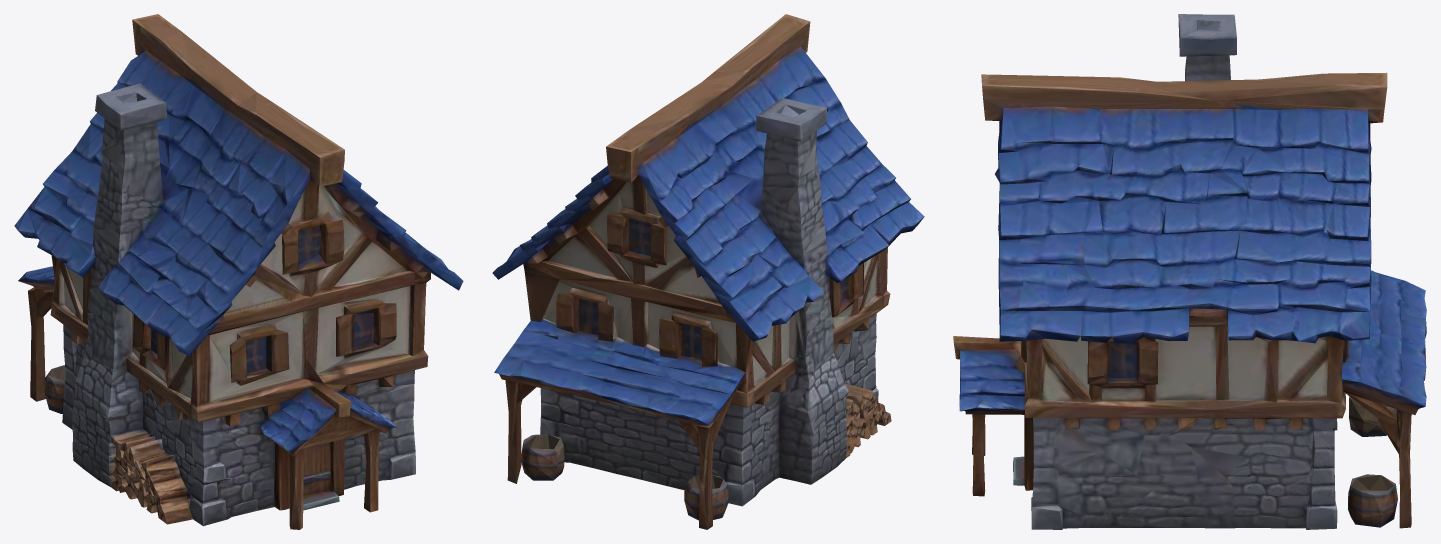
The model's file is oc_farmhouse.glb.
3 renders of one model, left to right at view 1: azimuth 30°, elevation 25°; view 2: azimuth 150°, elevation 25°; view 3: azimuth 270°, elevation 25°, orthographic. The views are drawn at different scales.
Visible parts, largest first — view 1: W_farmhouse; view 2: W_farmhouse; view 3: W_farmhouse.
Boxes of the visible parts, x1,y1,x2,y2 form: W_farmhouse: (14, 14, 463, 529); W_farmhouse: (492, 14, 924, 529); W_farmhouse: (953, 14, 1426, 529).
Size of the model in its own units: 8.91 by 10.99 by 11.87.
Materials: 1 (1 with a texture image).
